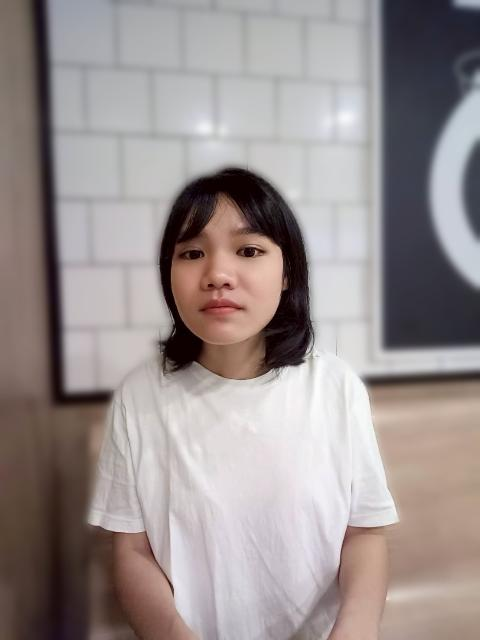fokus: (164, 181, 290, 345)
